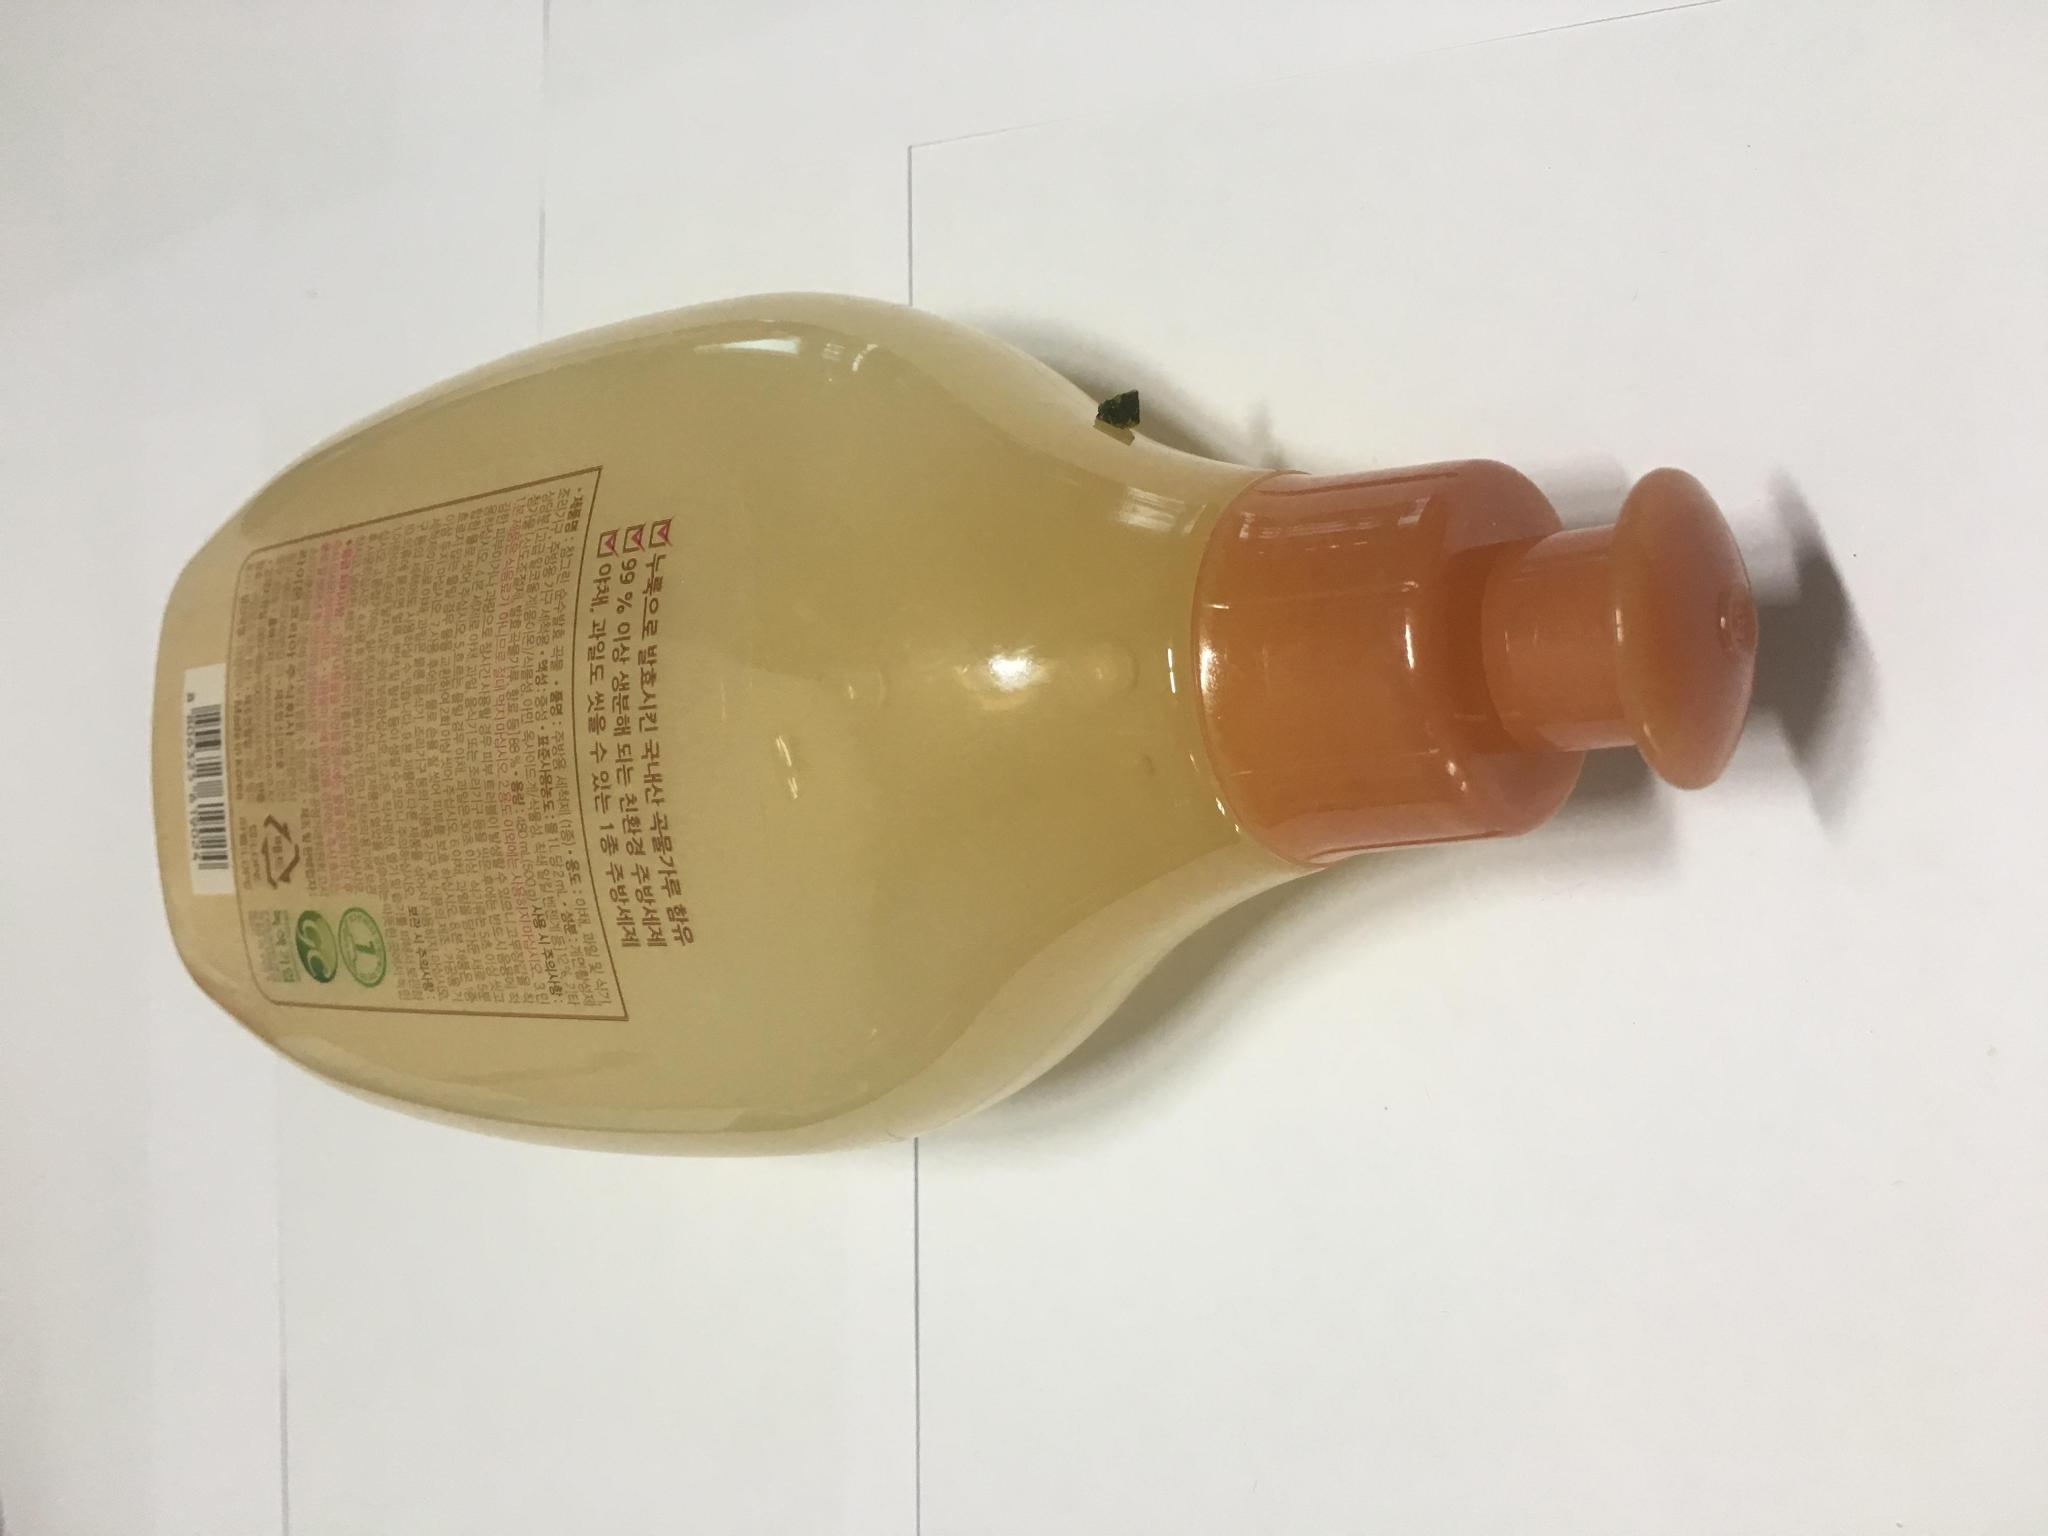bottle: (155, 307, 1759, 1160)
